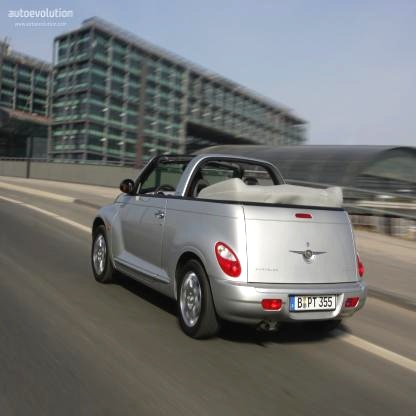Vehicle: (72, 131, 383, 367)
